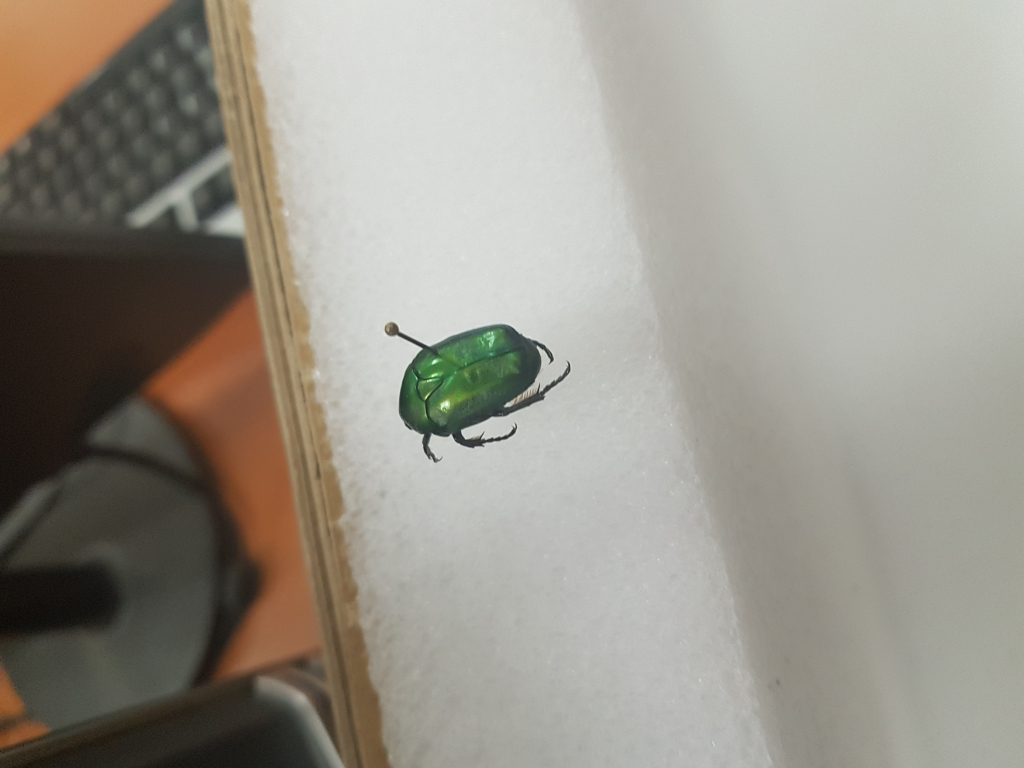Protaetia_cuprea_ignicollis: (398, 308, 580, 467)
